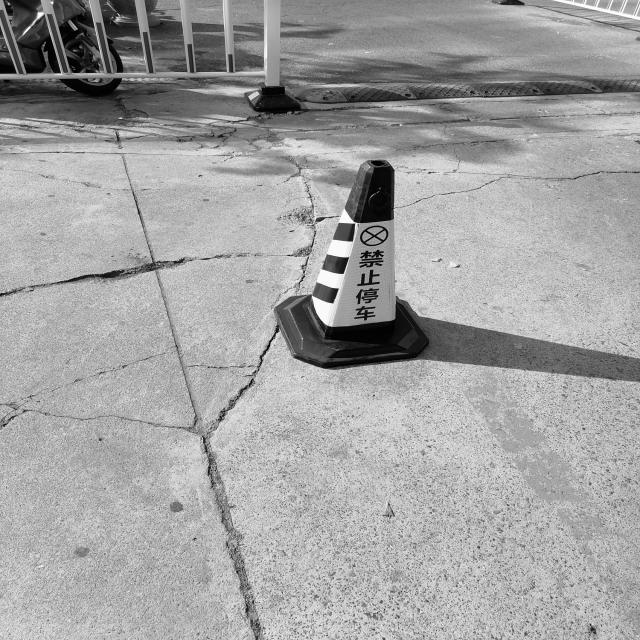motorbike: (2, 1, 124, 92)
reflective_cone: (273, 159, 432, 365)
